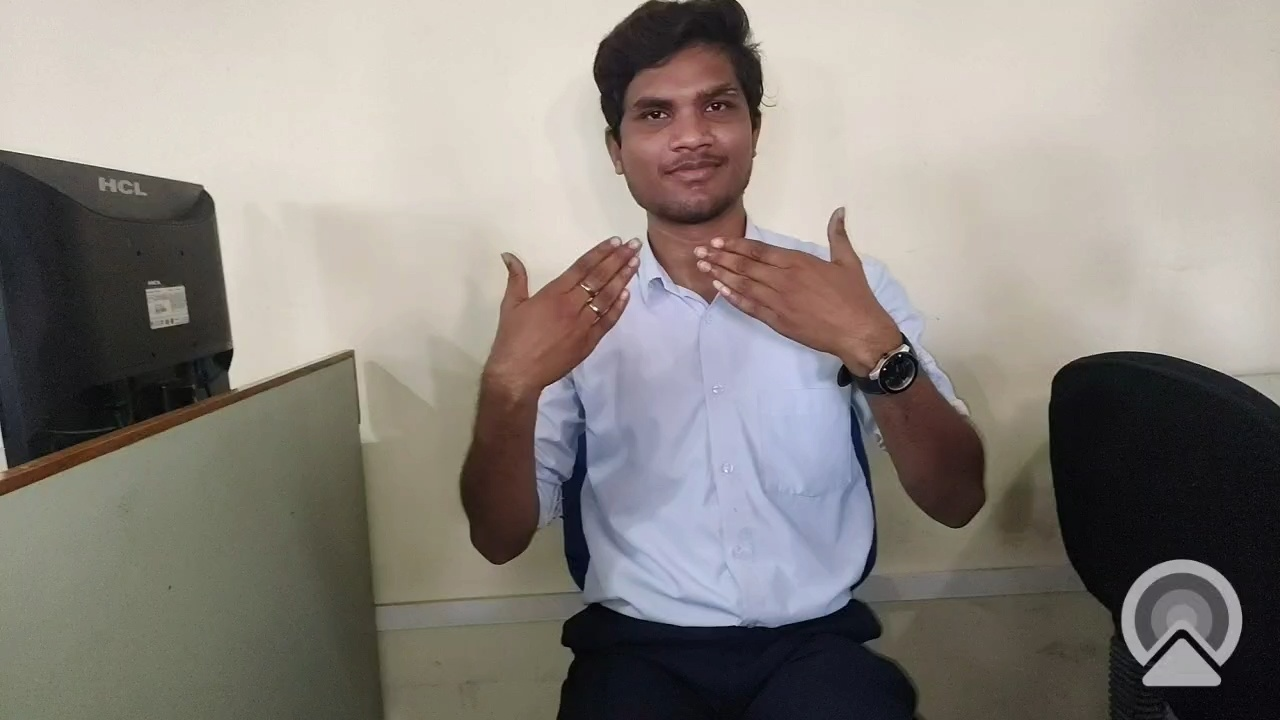Thank you: (460, 191, 967, 493)
